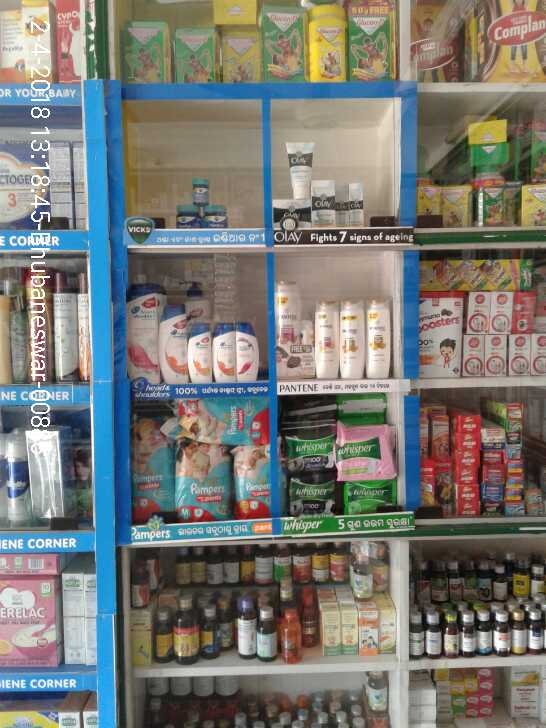vicks: (176, 205, 203, 227), (203, 204, 226, 227), (192, 177, 208, 202)
